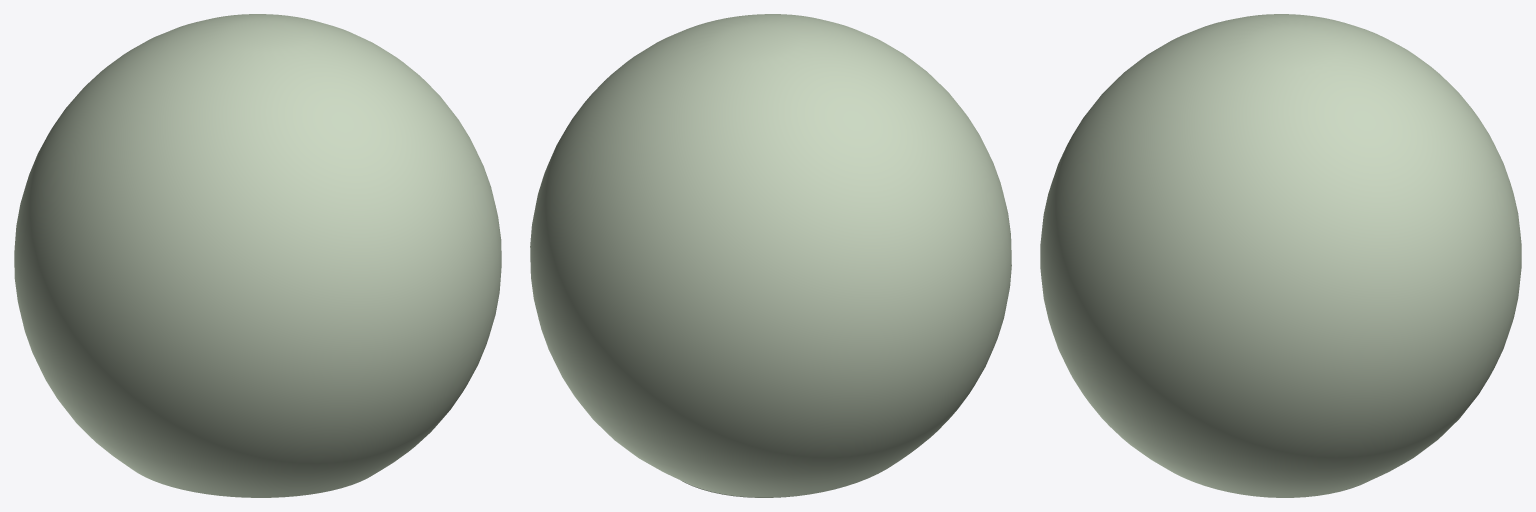
3 views of the same model, side by side, from view 1: azimuth 30°, elevation 25°; view 2: azimuth 150°, elevation 25°; view 3: azimuth 270°, elevation 25° (orthographic).
Visible parts, largest first — view 1: 右侧巩膜; view 2: 右侧巩膜; view 3: 右侧巩膜.
Part boxes in pixels (<box>): 右侧巩膜: <box>14,14,501,497</box>; 右侧巩膜: <box>530,14,1011,497</box>; 右侧巩膜: <box>1040,14,1521,497</box>.
Bounding box in the file's own units: 0.0387 × 0.0368 × 0.0387.
